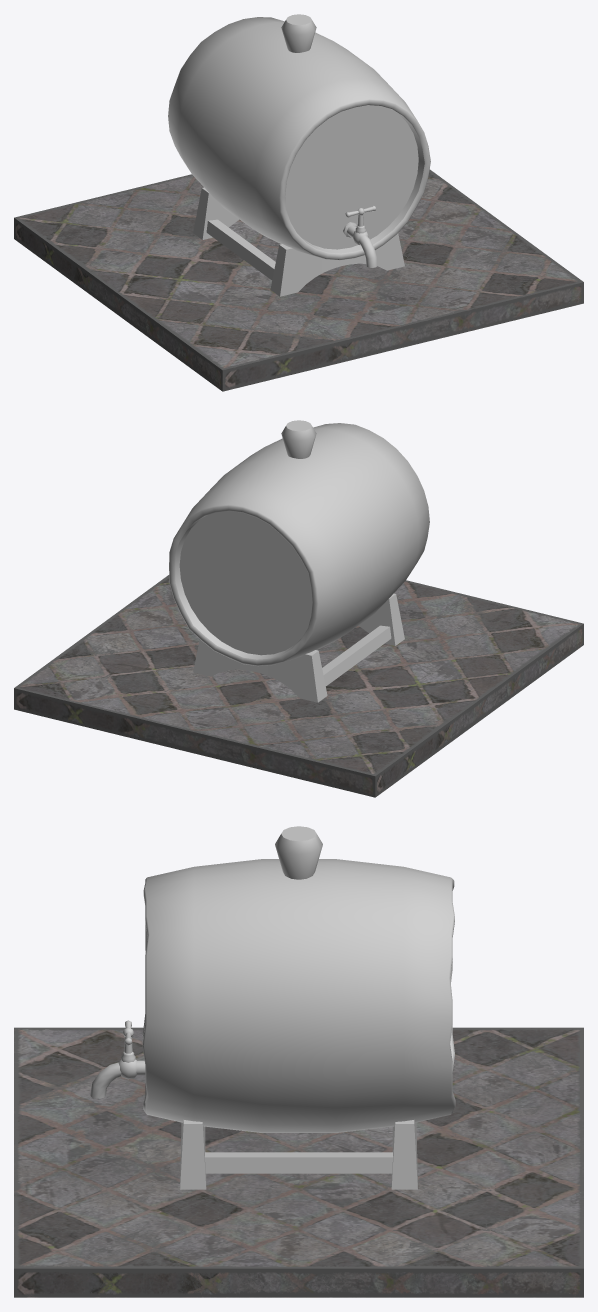
The picture shows the model from 3 angles, top to bottom: view 1: azimuth 30°, elevation 25°; view 2: azimuth 150°, elevation 25°; view 3: azimuth 270°, elevation 25°; orthographic projection. The views are drawn at different scales.
Visible parts, largest first — view 1: tile_tile_0, wine_barrel_wine_barrel_0; view 2: tile_tile_0, wine_barrel_wine_barrel_0; view 3: tile_tile_0, wine_barrel_wine_barrel_0.
Part boxes in pixels (bbox=[...]): tile_tile_0: bbox=[14, 169, 583, 391]; wine_barrel_wine_barrel_0: bbox=[168, 14, 430, 296]; tile_tile_0: bbox=[14, 575, 583, 797]; wine_barrel_wine_barrel_0: bbox=[169, 420, 429, 702]; tile_tile_0: bbox=[14, 1027, 583, 1297]; wine_barrel_wine_barrel_0: bbox=[90, 826, 455, 1189].
Bounding box in the file's own units: 1 × 0.665 × 1.
